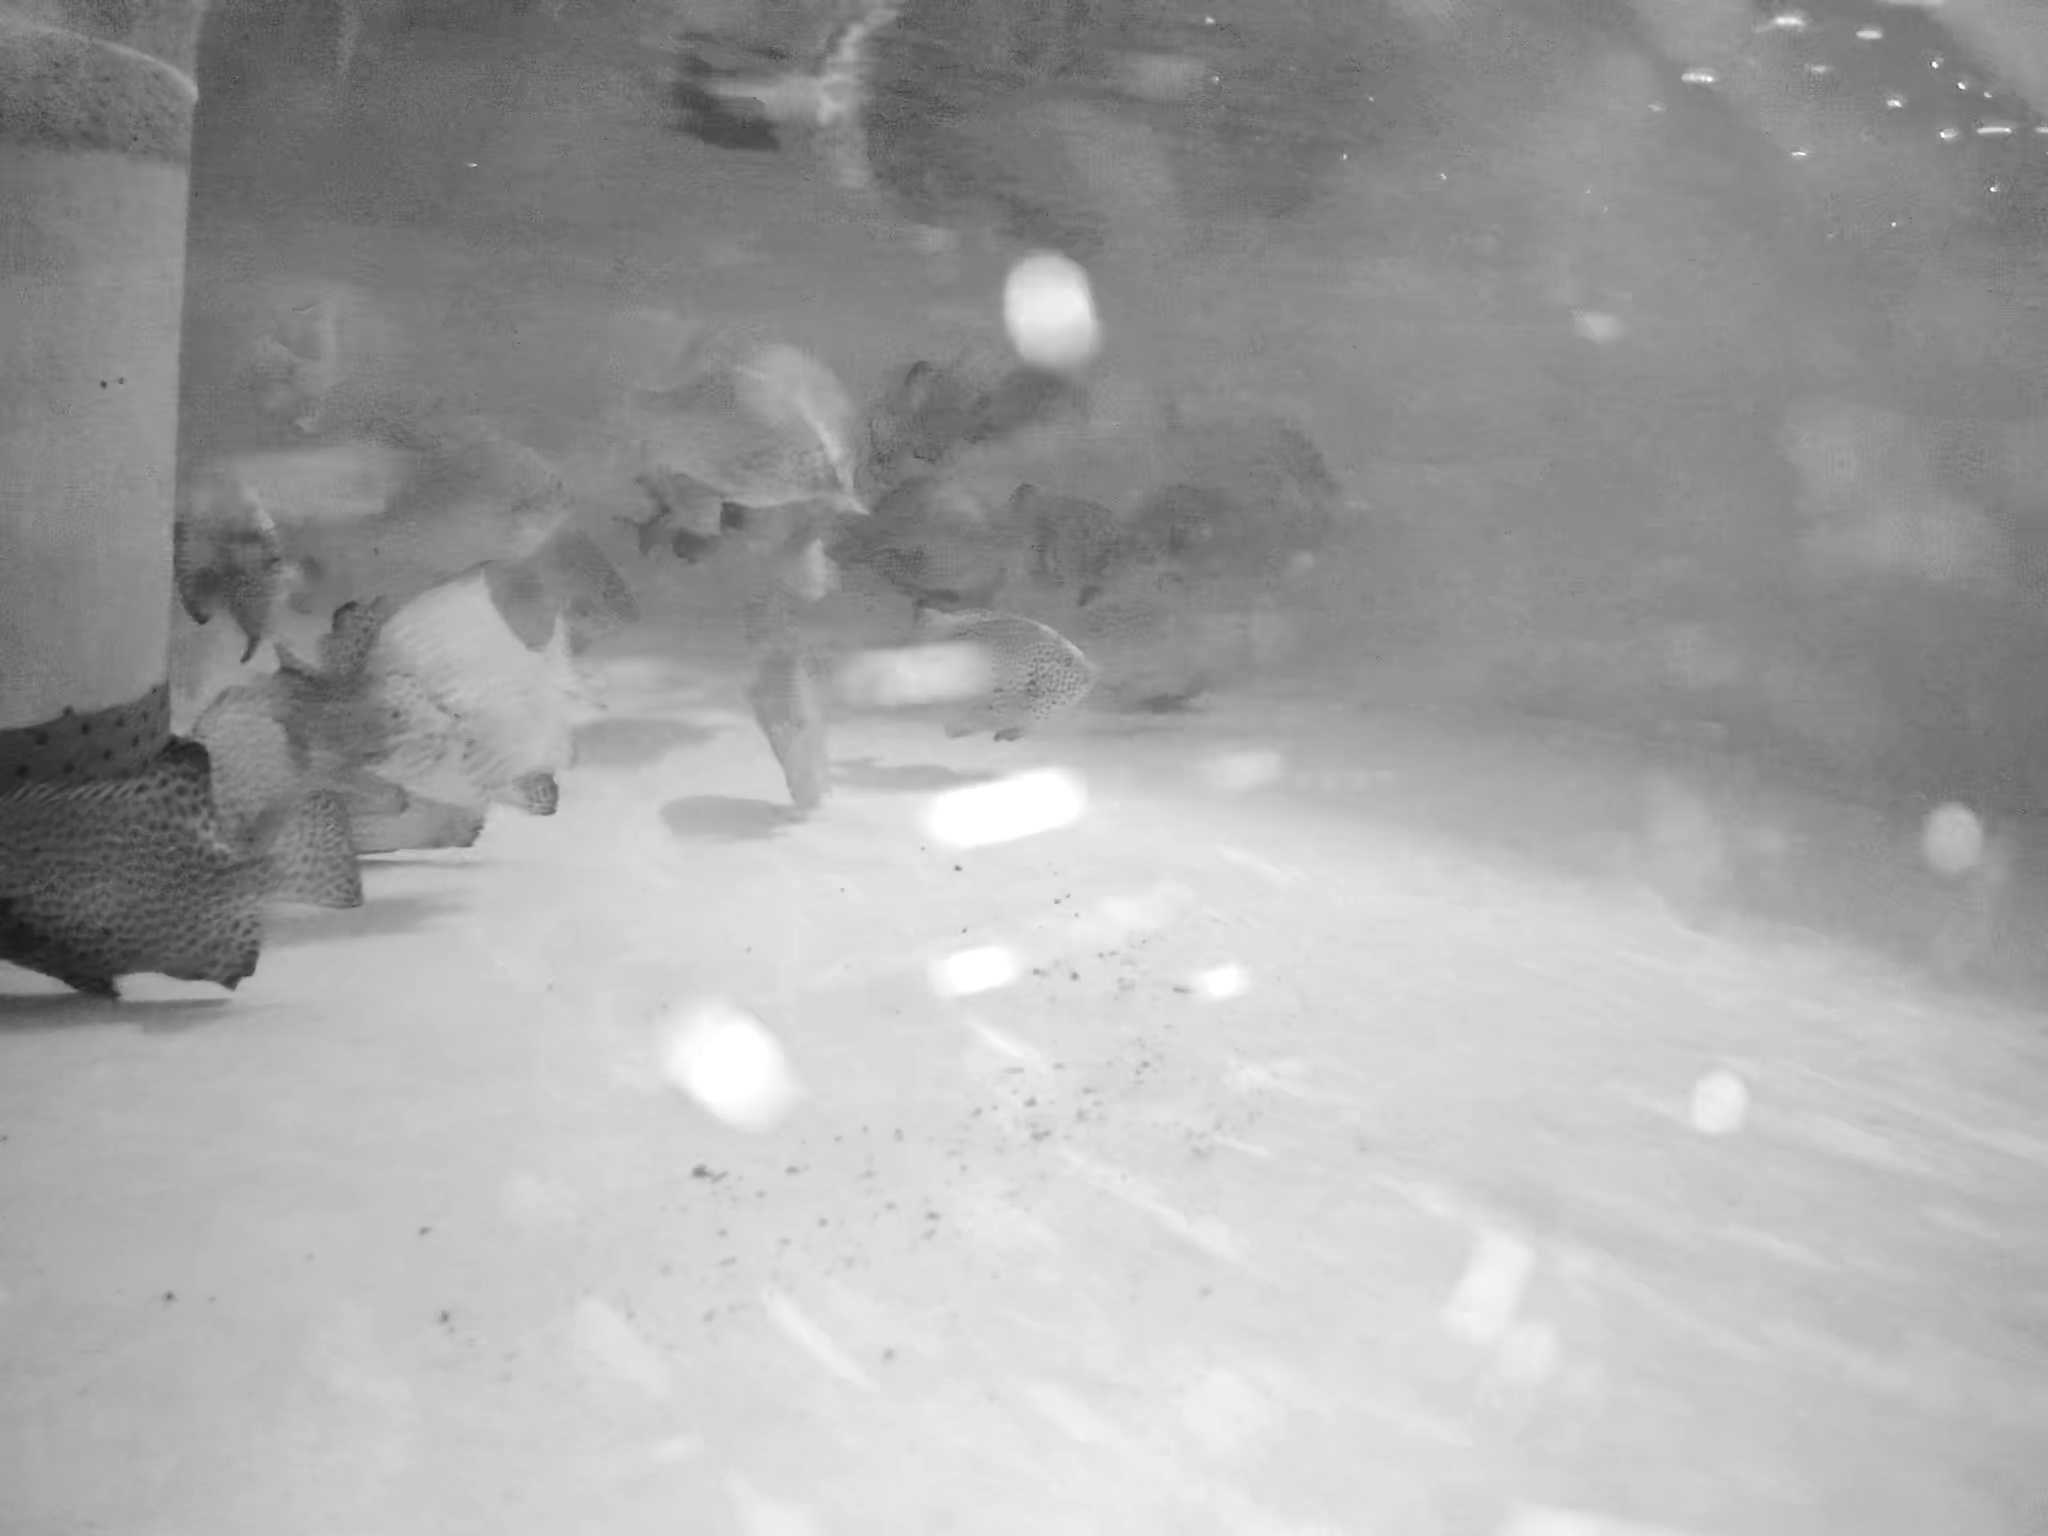fish: (11, 703, 373, 1016), (369, 558, 616, 863), (830, 586, 1109, 752), (543, 518, 879, 645), (627, 331, 864, 508), (842, 453, 1138, 591), (327, 742, 585, 878), (181, 687, 416, 828), (377, 437, 585, 578), (284, 603, 472, 749), (153, 495, 319, 657), (729, 631, 860, 815)
